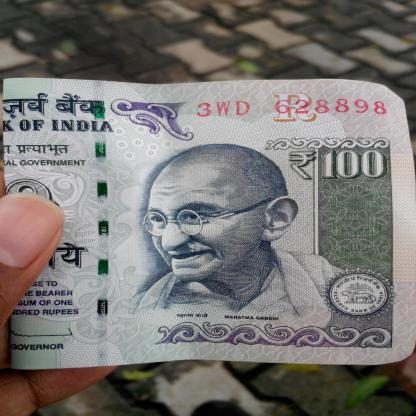Old100Front: (0, 78, 416, 372)
